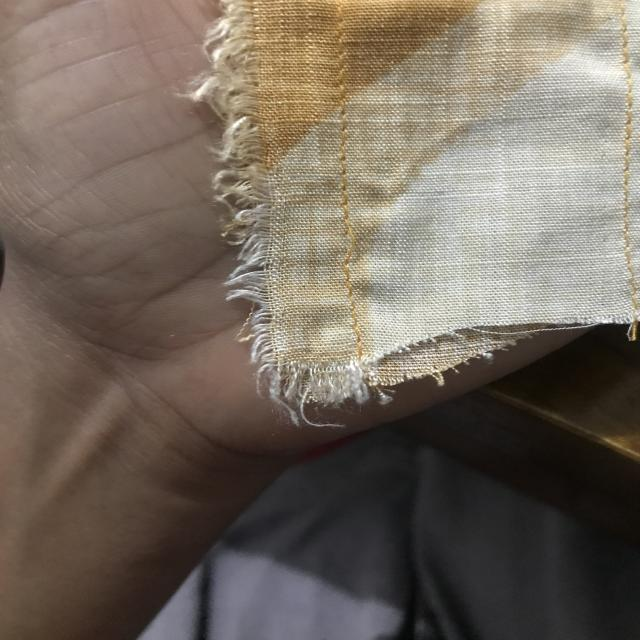good: (326, 91, 366, 188)
skip: (334, 208, 366, 276)
